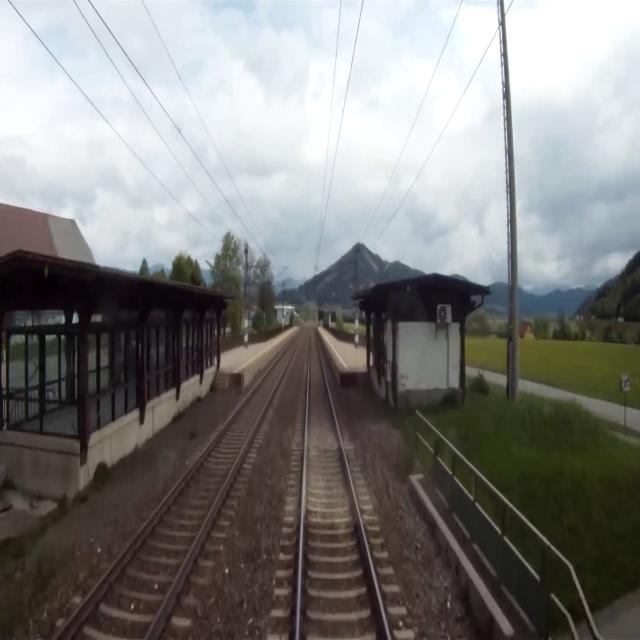rail-track: (57, 326, 303, 639), (301, 329, 386, 639)
